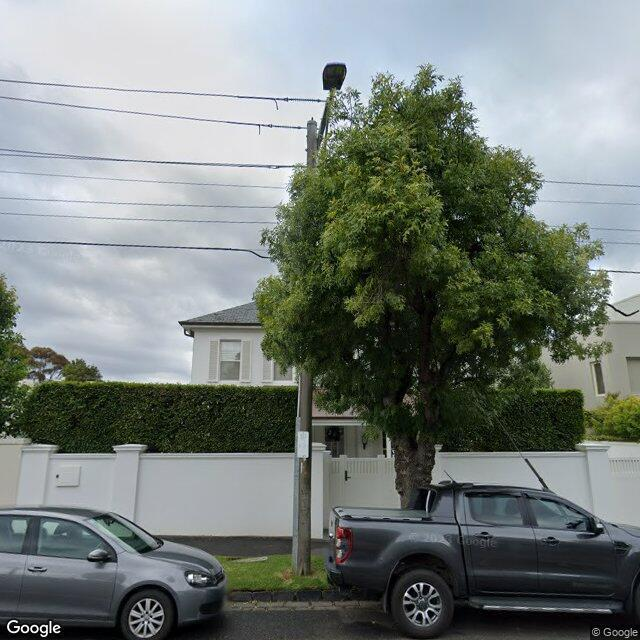streetlight: (316, 62, 348, 150)
timber-pole: (290, 120, 318, 575)
